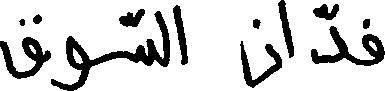X: (240, 0, 279, 90), (0, 9, 41, 83), (311, 0, 346, 68), (51, 31, 88, 90), (126, 4, 152, 70), (363, 14, 384, 70), (173, 0, 187, 69), (281, 0, 293, 72), (157, 6, 168, 71)
